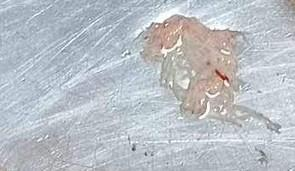General: (139, 12, 244, 120)
Sharps: (214, 68, 230, 87)
